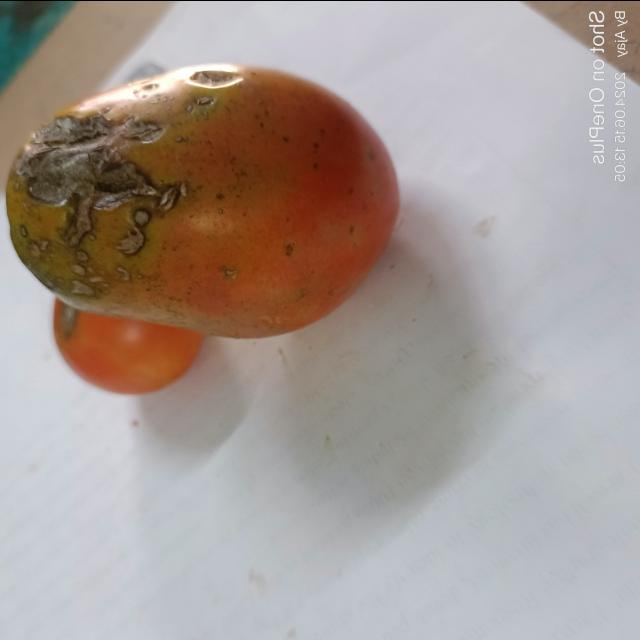Bacterial_Spot: (48, 117, 180, 211), (64, 214, 154, 258), (22, 148, 42, 196), (68, 274, 104, 294), (29, 238, 53, 259), (118, 265, 130, 281), (224, 268, 238, 278), (20, 225, 26, 234), (31, 266, 36, 274), (38, 275, 48, 279)
